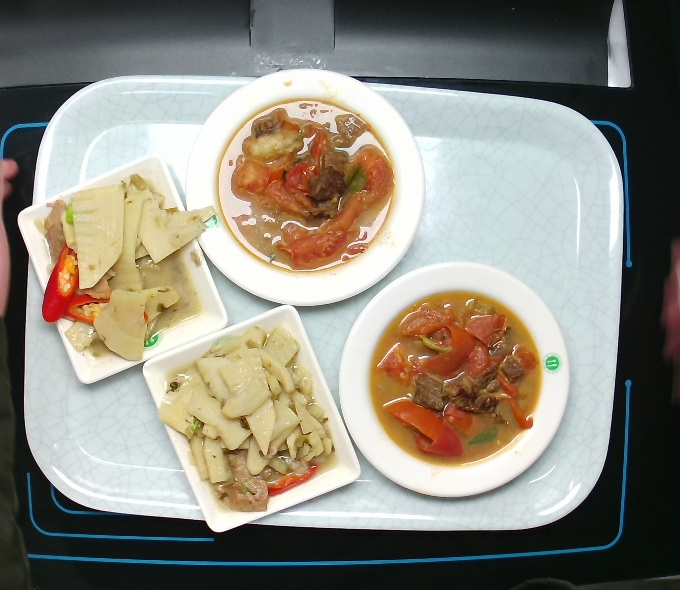wcq-DongSun: (152, 315, 335, 508), (39, 164, 211, 366)
wcq-FanQiwNiuRou: (363, 283, 557, 477), (214, 85, 407, 279)
